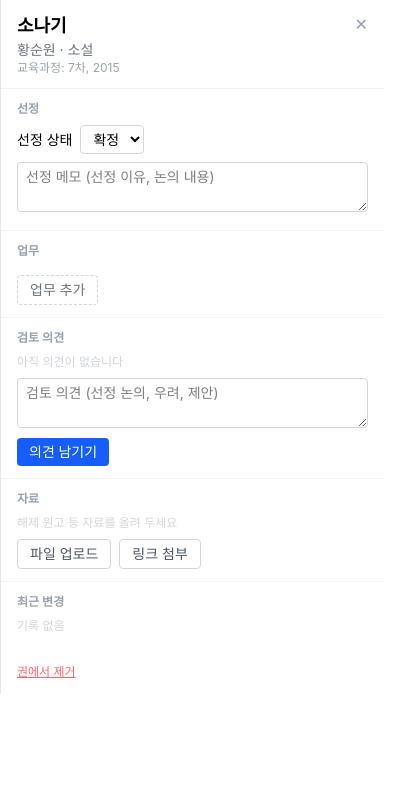
Test: 링크 첨부를 등록한다
The width and height of the screenshot is (401, 800).
Click the button "링크 첨부": (160, 554) x1=119 y1=539 x2=201 y2=569
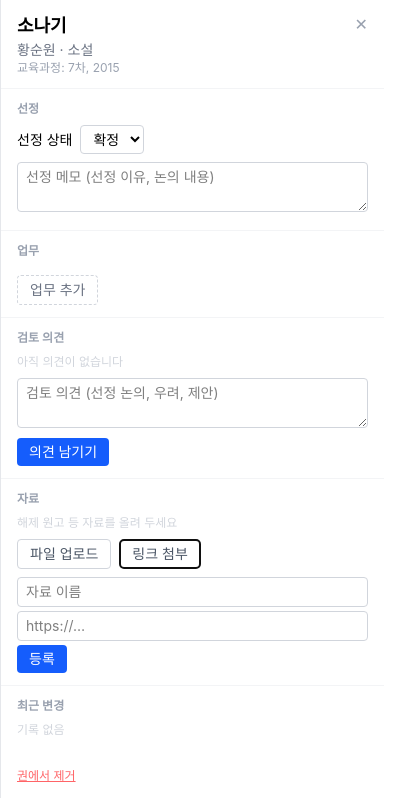
In the field with placeholder "자료 이름": (192, 592) x1=17 y1=577 x2=368 y2=607, type "해제 초고"
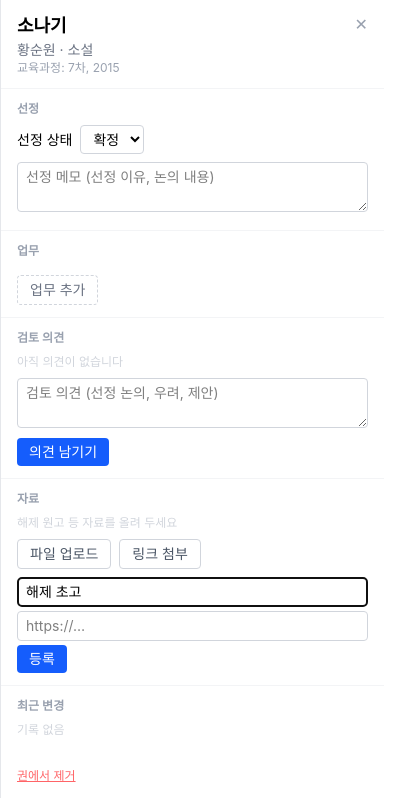
In the field with placeholder "https://…": (192, 626) x1=17 y1=611 x2=368 y2=641, type "https://ex.com"
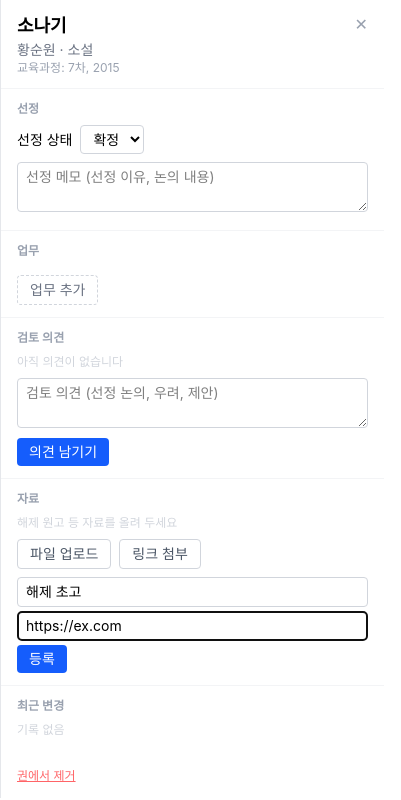
Click the button "등록": (42, 659) x1=17 y1=645 x2=67 y2=673
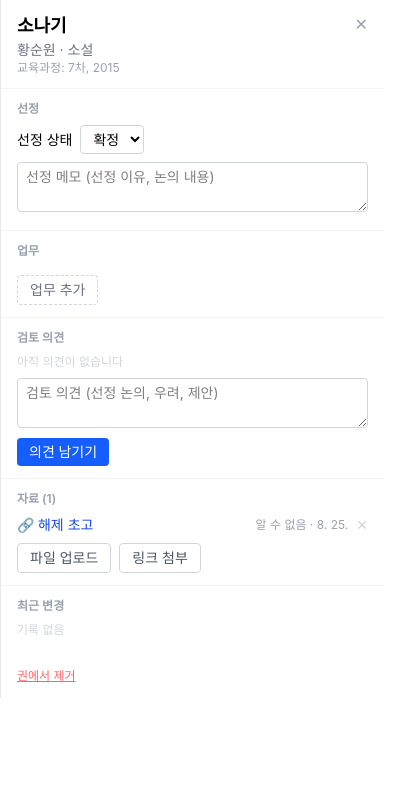
Expected: the text "해제 초고" is shown, x1=38 y1=516 x2=93 y2=533
